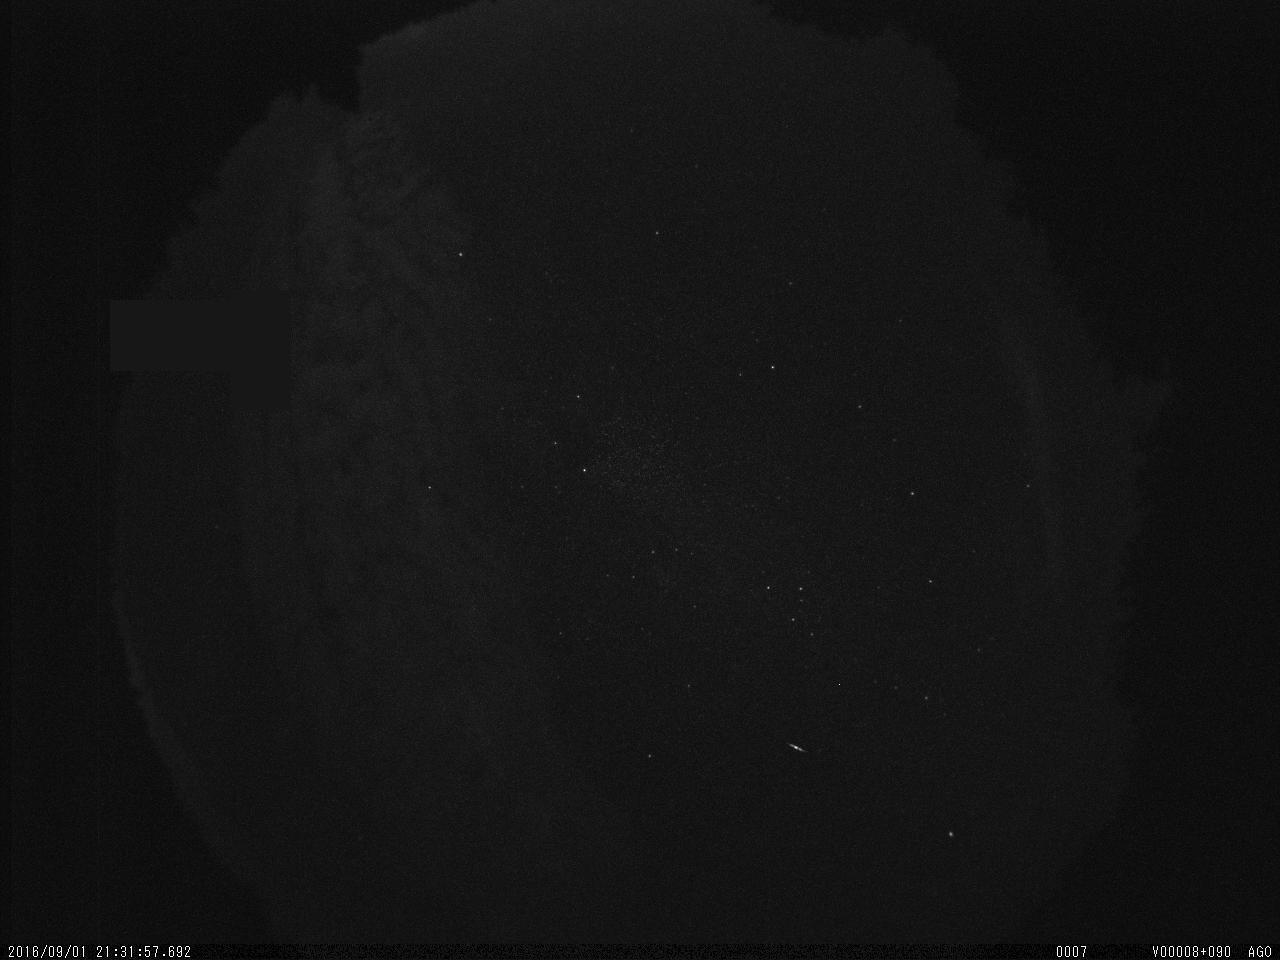meteor: (783, 738, 814, 757)
